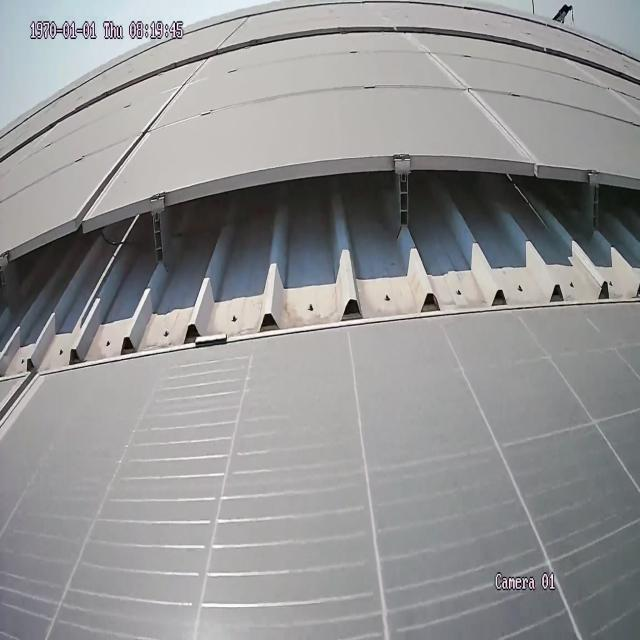interior panel: (75, 65, 209, 205), (404, 39, 538, 154), (0, 383, 43, 440)
